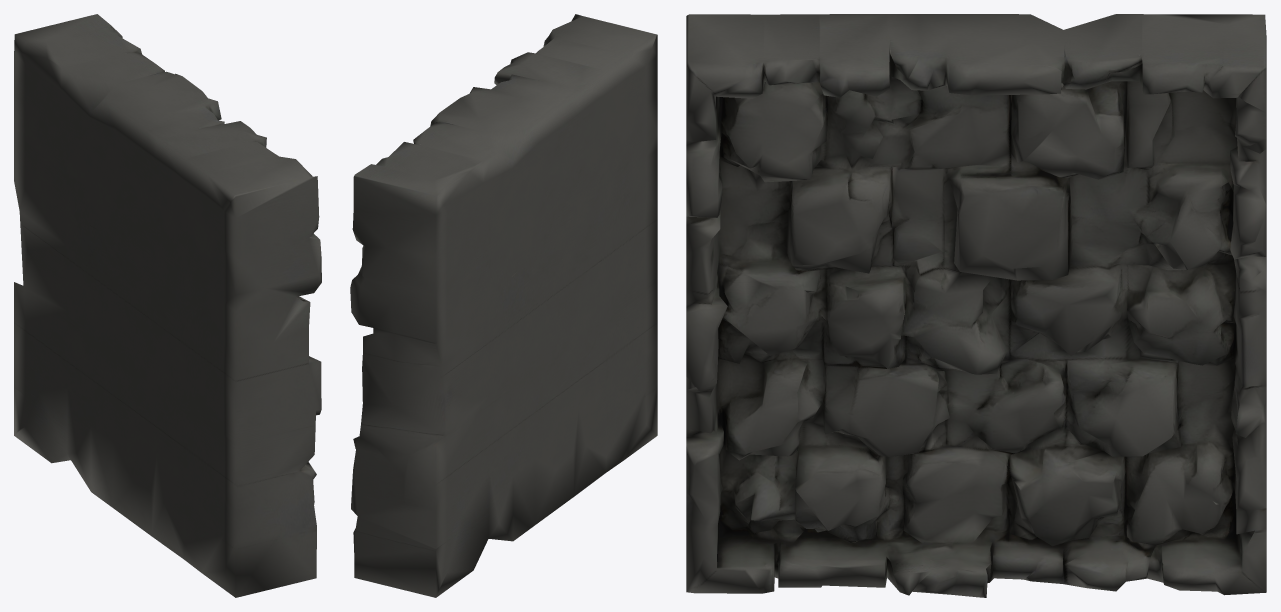
Rendered from ashlar_wall.glb.
3 renders of one model, left to right at view 1: azimuth 30°, elevation 25°; view 2: azimuth 150°, elevation 25°; view 3: azimuth 270°, elevation 25°, orthographic. The views are drawn at different scales.
Visible parts, largest first — view 1: tripo_node_8e9d5369-8628-493d-a904-b1fc843ee46d; view 2: tripo_node_8e9d5369-8628-493d-a904-b1fc843ee46d; view 3: tripo_node_8e9d5369-8628-493d-a904-b1fc843ee46d.
Boxes of the visible parts, x1,y1,x2,y2 form: tripo_node_8e9d5369-8628-493d-a904-b1fc843ee46d: [14, 14, 321, 597]; tripo_node_8e9d5369-8628-493d-a904-b1fc843ee46d: [350, 14, 657, 597]; tripo_node_8e9d5369-8628-493d-a904-b1fc843ee46d: [686, 14, 1266, 597].
Size of the model in its own units: 0.2387 by 1 by 0.9987.
Materials: 1 (1 with a texture image).
